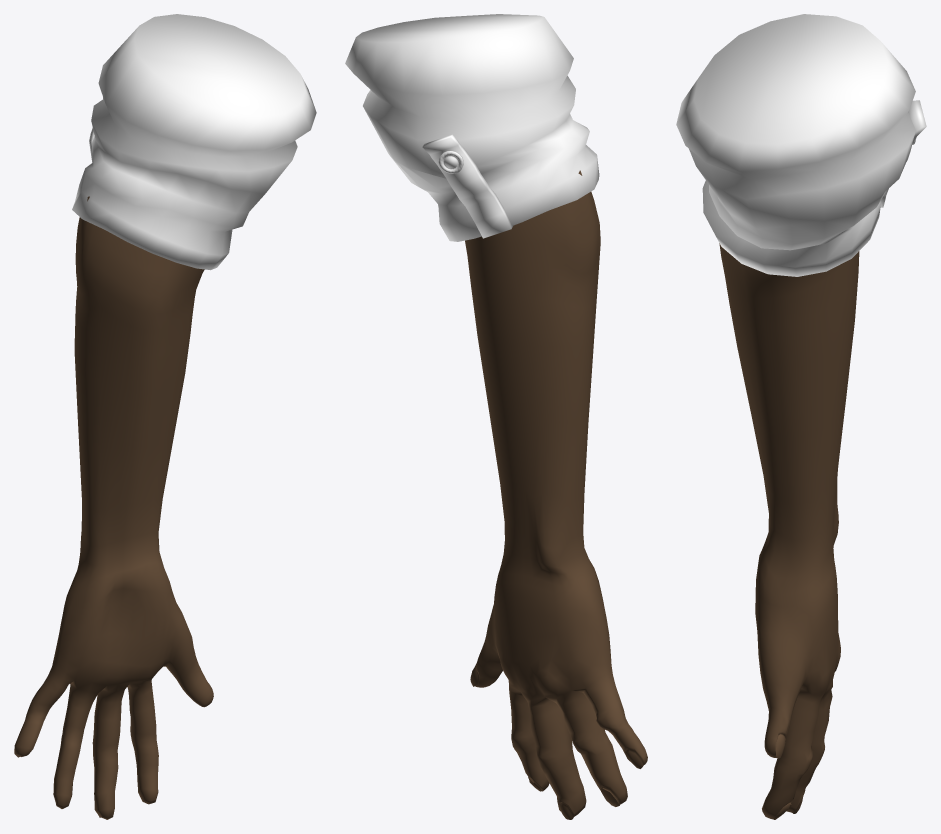
The model's file is bras_low.fbx.
The picture shows the model from 3 angles, left to right: view 1: azimuth 30°, elevation 25°; view 2: azimuth 150°, elevation 25°; view 3: azimuth 270°, elevation 25°; orthographic projection. The views are drawn at different scales.
Visible parts, largest first — view 1: bras, tissue; view 2: bras, tissue, languette; view 3: tissue, bras, languette.
Boxes of the visible parts, left/top/right/bottom form: bras: left=14, top=196, right=213, bottom=819; tissue: left=72, top=14, right=316, bottom=270; bras: left=465, top=170, right=647, bottom=819; tissue: left=345, top=14, right=599, bottom=241; languette: left=422, top=134, right=512, bottom=238; tissue: left=676, top=14, right=915, bottom=276; bras: left=719, top=243, right=859, bottom=819; languette: left=880, top=100, right=926, bottom=207.
Size of the model in its own units: 33.11 by 85.36 by 23.54.
